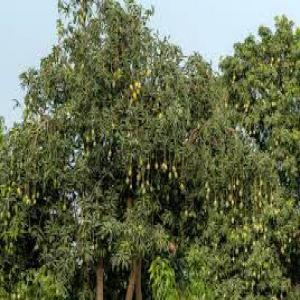Tree: (9, 5, 227, 297), (214, 11, 296, 297)
